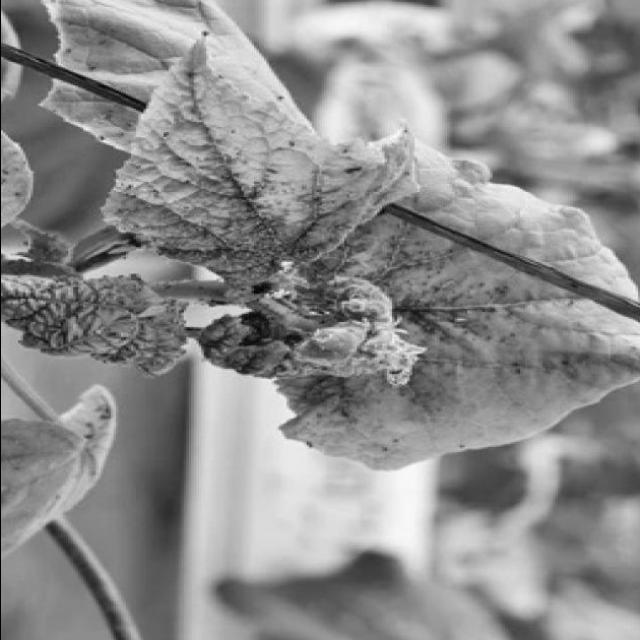Aphids: (9, 268, 177, 364), (188, 197, 317, 281), (350, 266, 488, 327), (150, 120, 294, 178), (224, 285, 332, 360), (344, 332, 442, 398), (486, 334, 552, 388), (329, 145, 374, 183), (357, 432, 418, 457)
